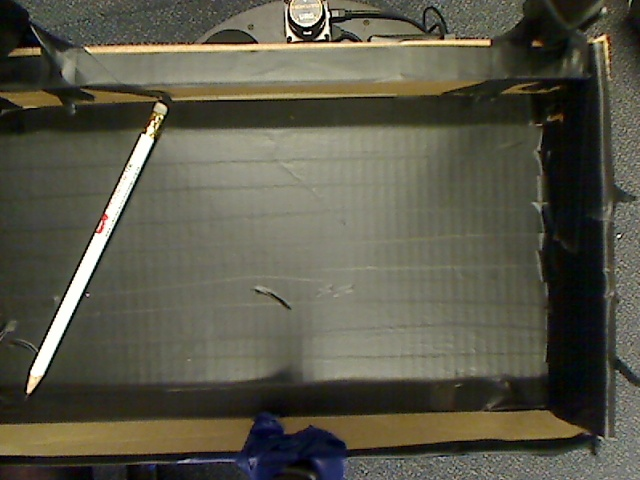pencil: (18, 87, 190, 408)
